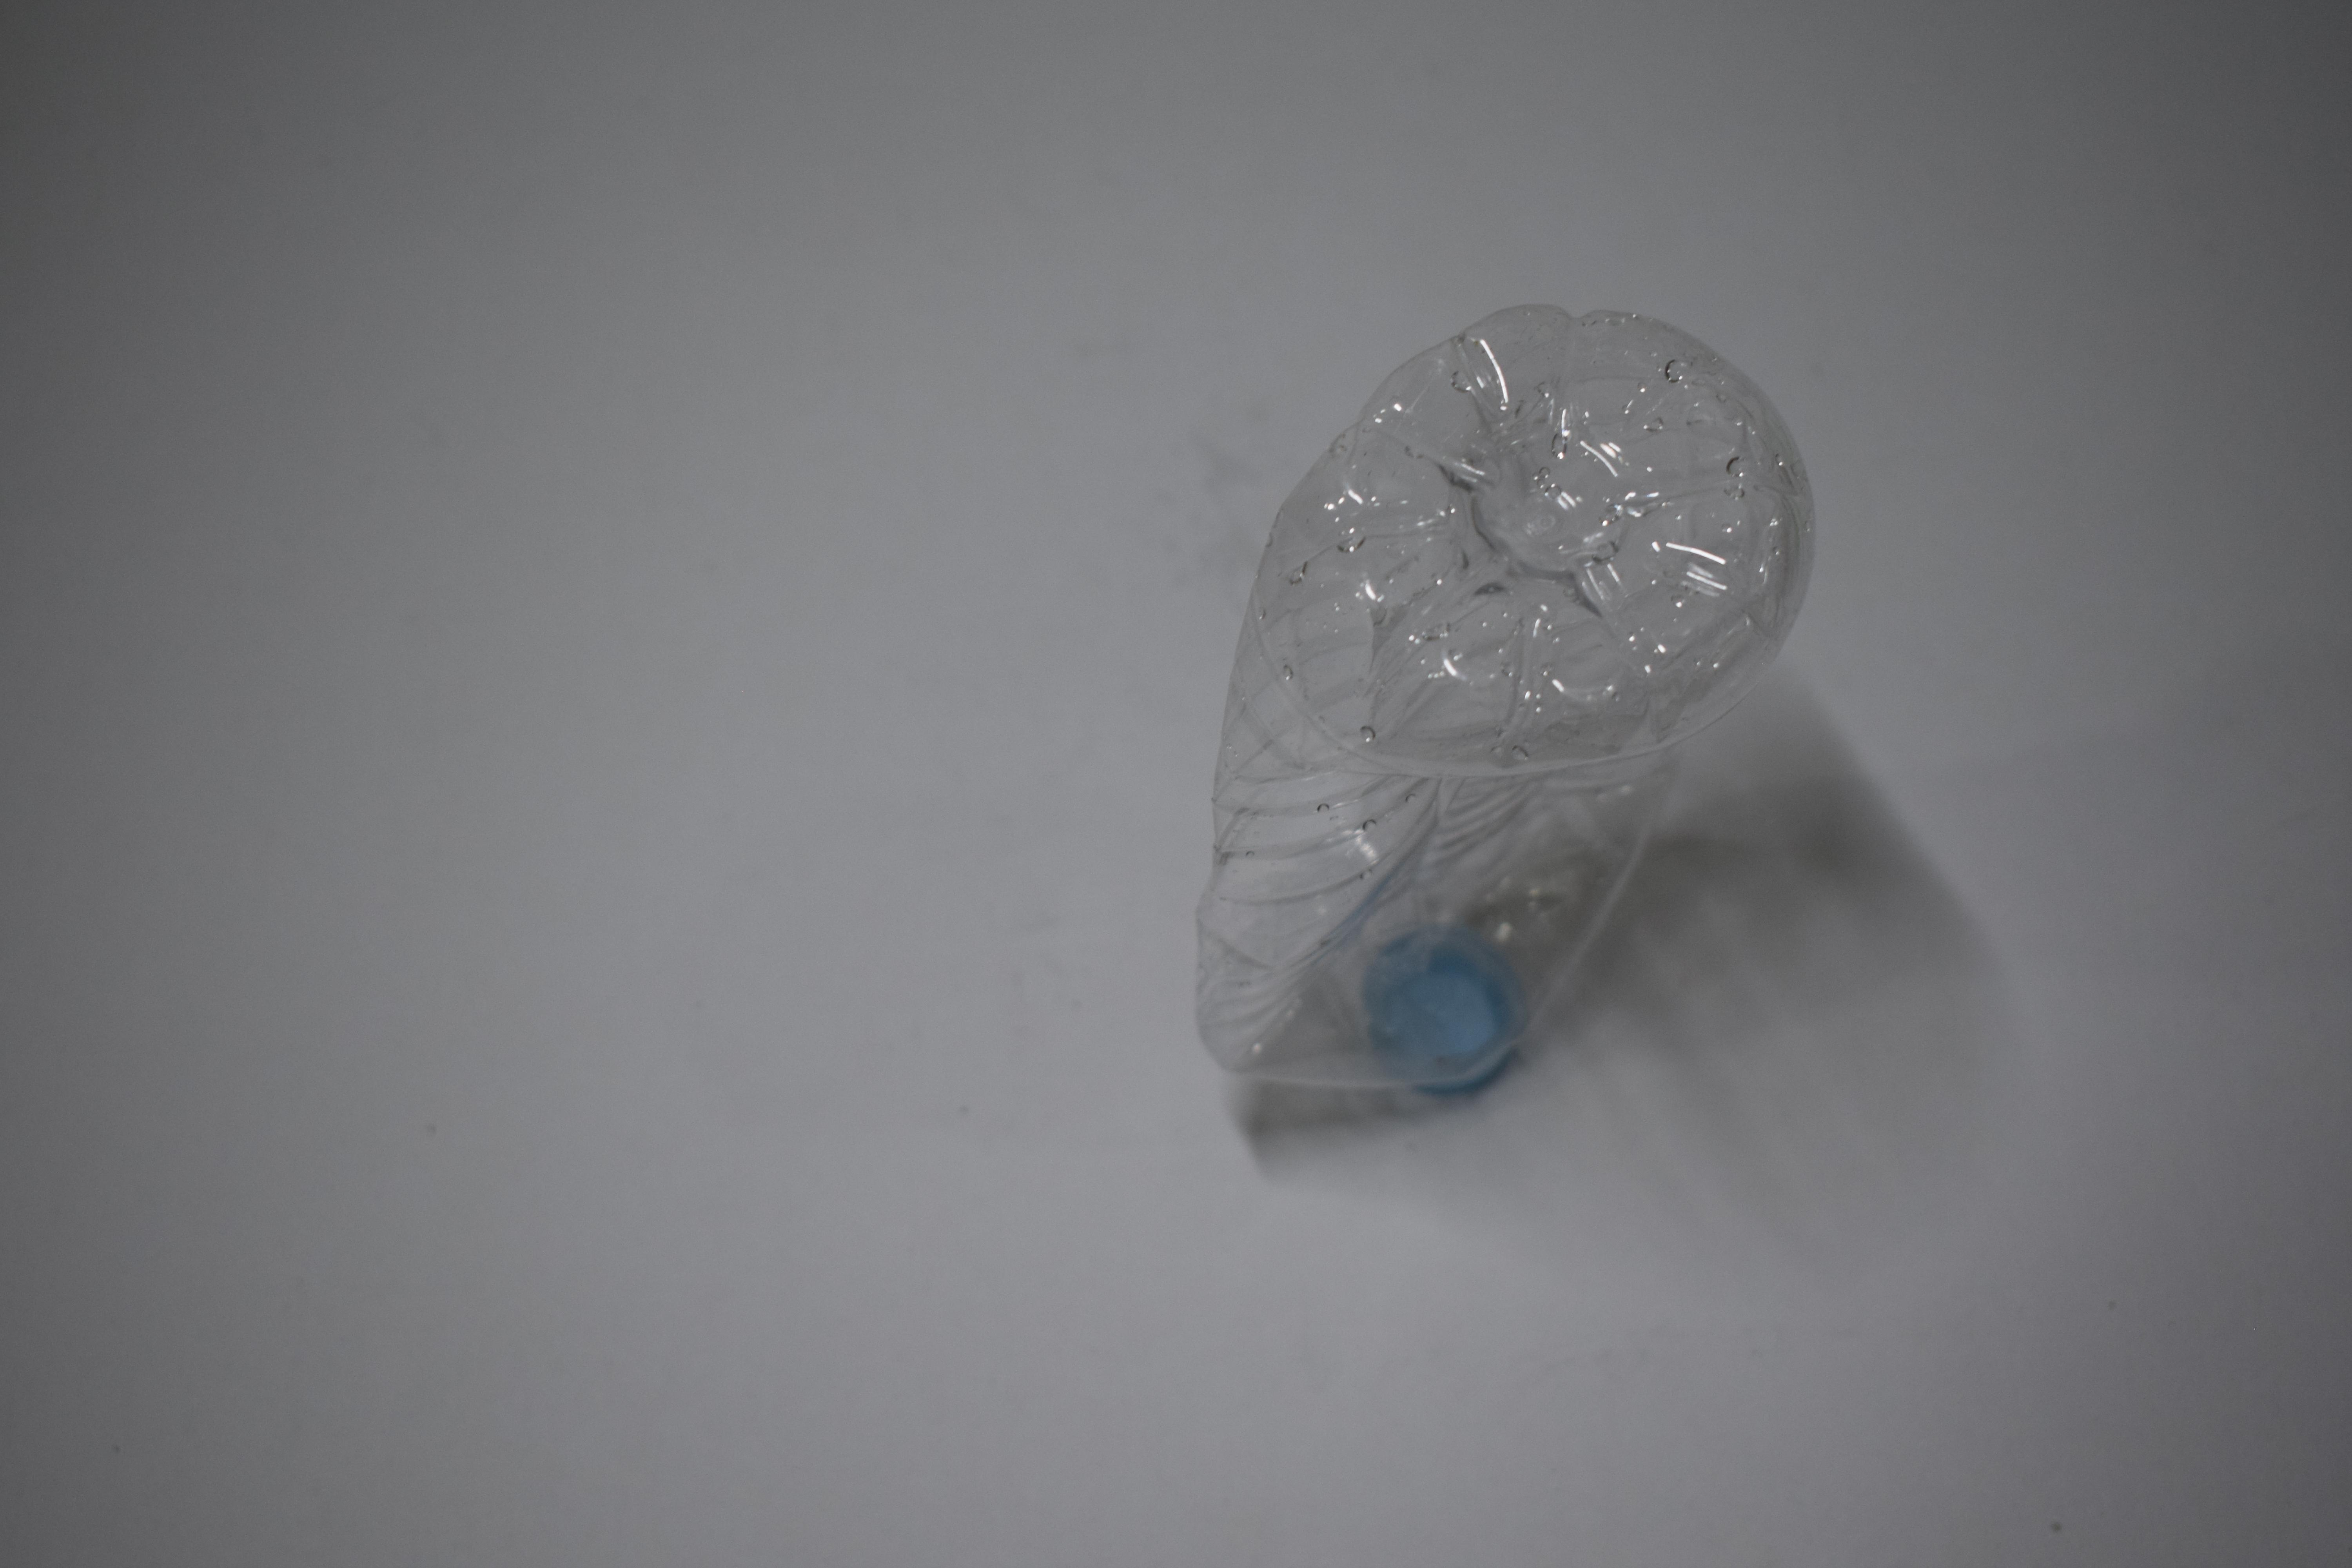bottle: (1202, 679, 1813, 721)
